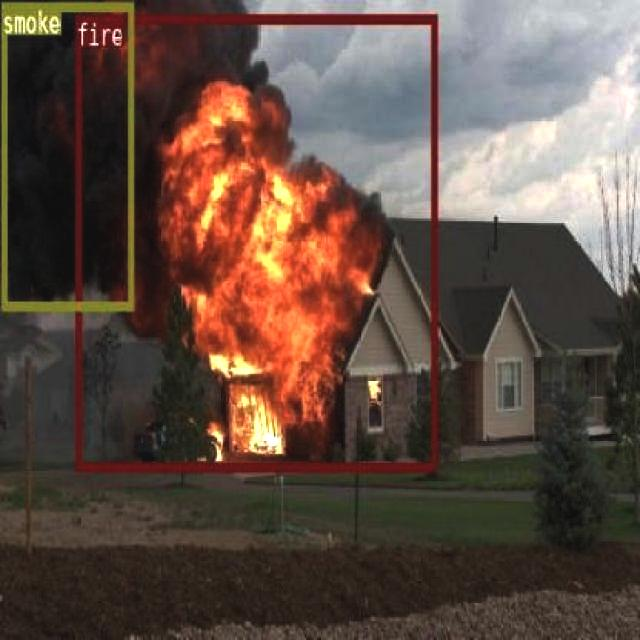fire: (73, 13, 436, 470)
smoke: (0, 0, 134, 309)
